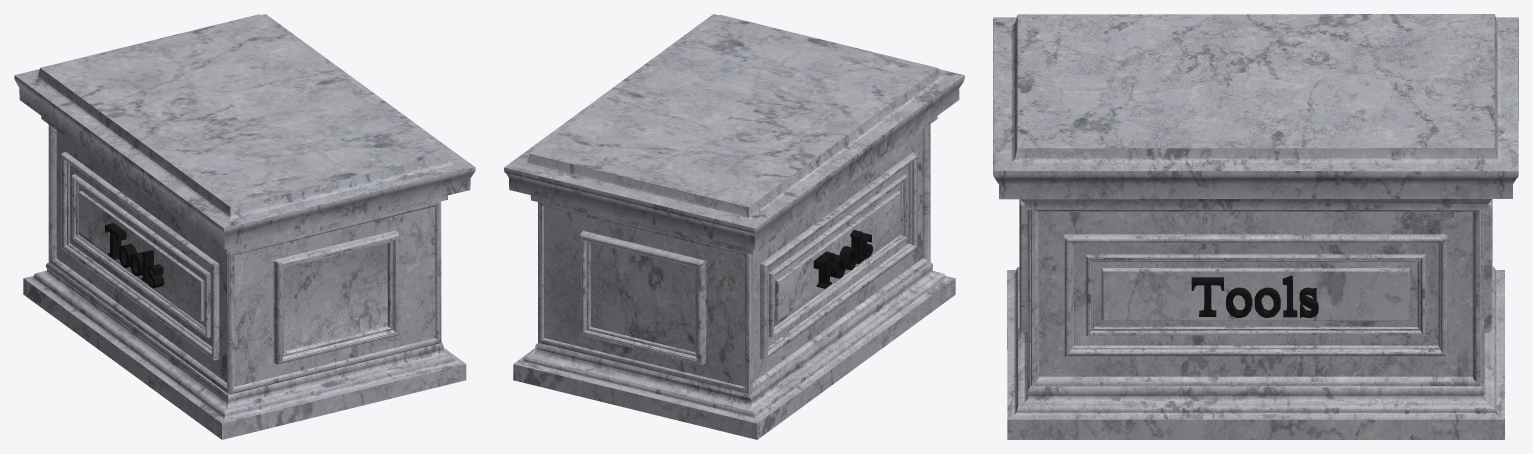
The model's file is skillsRight.glb.
3 views of the same model, side by side, from view 1: azimuth 30°, elevation 25°; view 2: azimuth 150°, elevation 25°; view 3: azimuth 270°, elevation 25° (orthographic). The views are drawn at different scales.
Parts seen in each view (by area): view 1: pied; view 2: pied; view 3: pied.
Part boxes in pixels (bbox=[...]): pied: bbox=[14, 14, 475, 439]; pied: bbox=[504, 14, 964, 439]; pied: bbox=[993, 14, 1518, 439].
Size of what is drawn, in the model's own units: 25.61 by 22.07 by 36.98.
2 materials, 1 textured.
